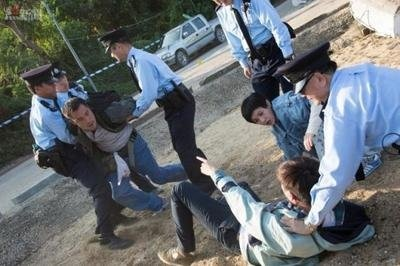falling: (160, 145, 328, 264)
